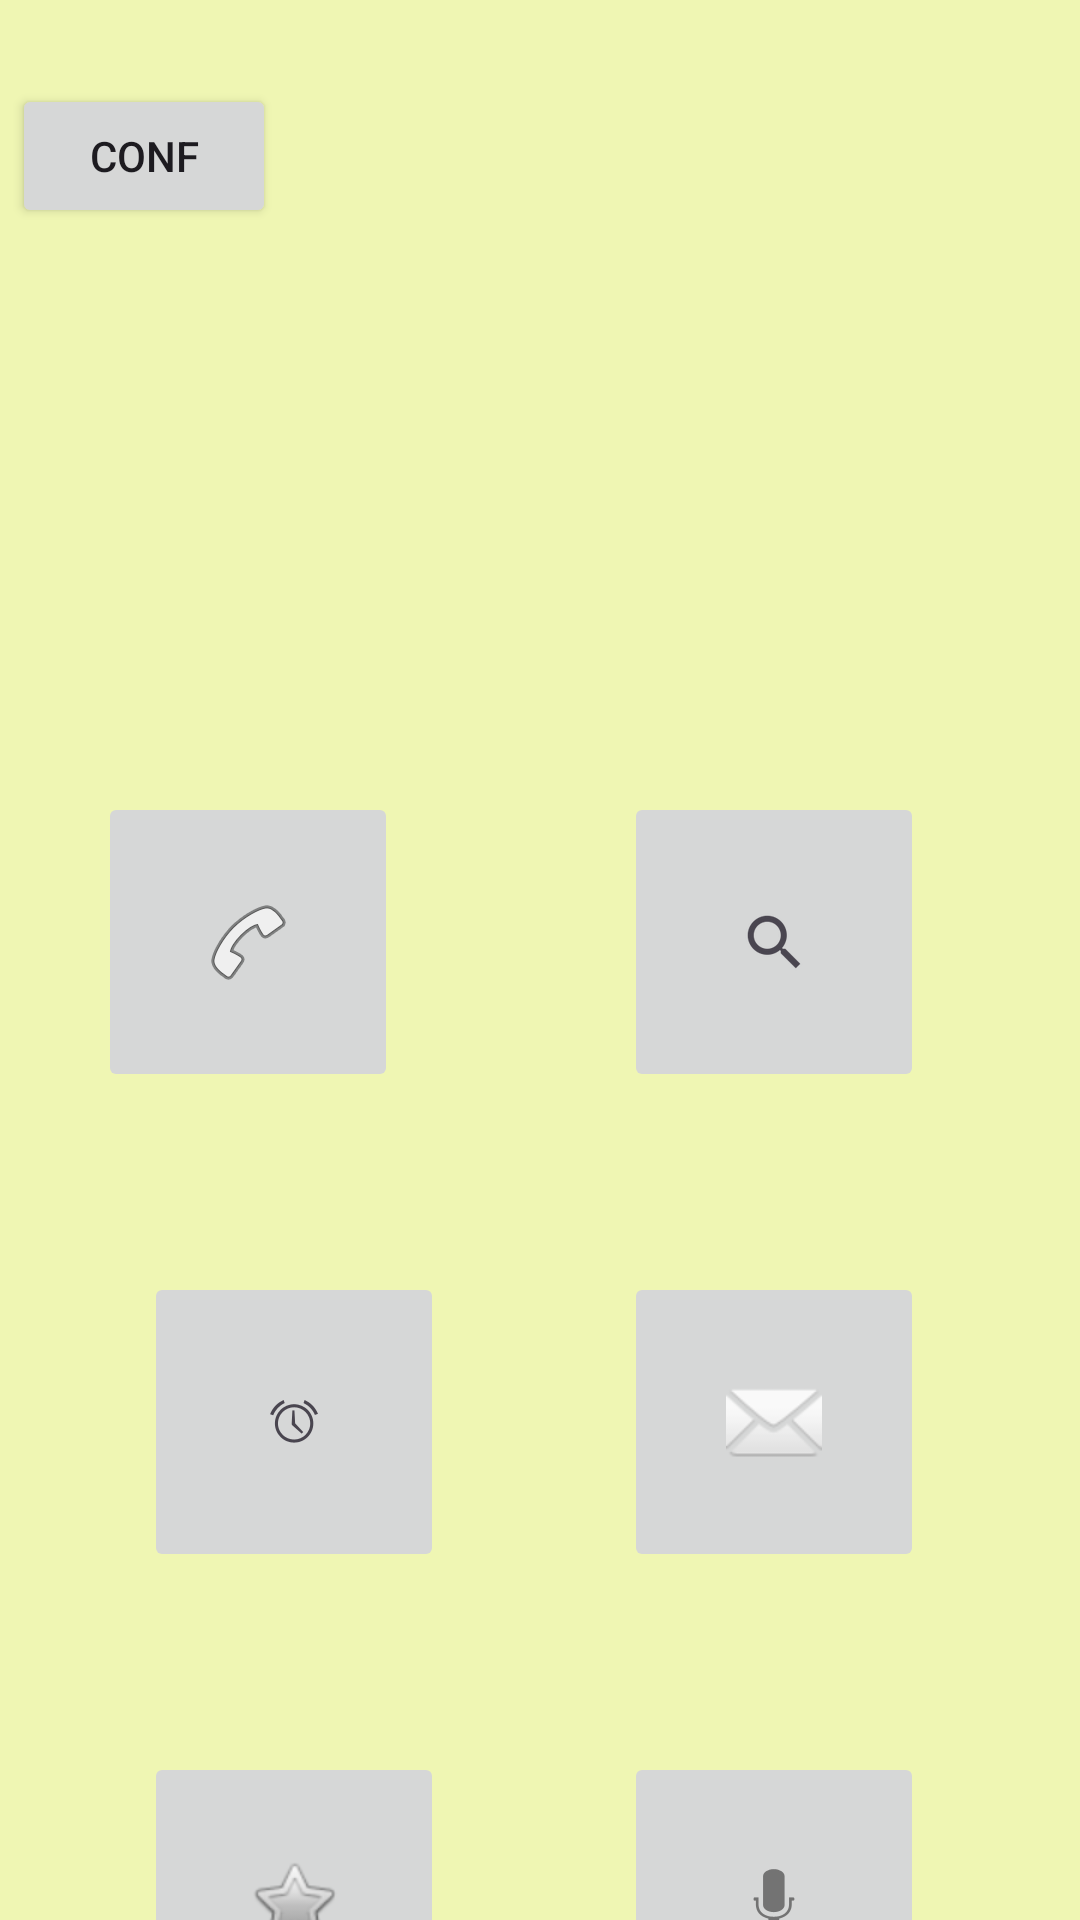

Locate icon controls on the screen. Image size 1080 x 1920, boxes as (x1, y1, x2, y2).
call: (110, 810, 386, 1074)
email: (636, 1290, 912, 1554)
lock idle alarm: (156, 1290, 432, 1554)
